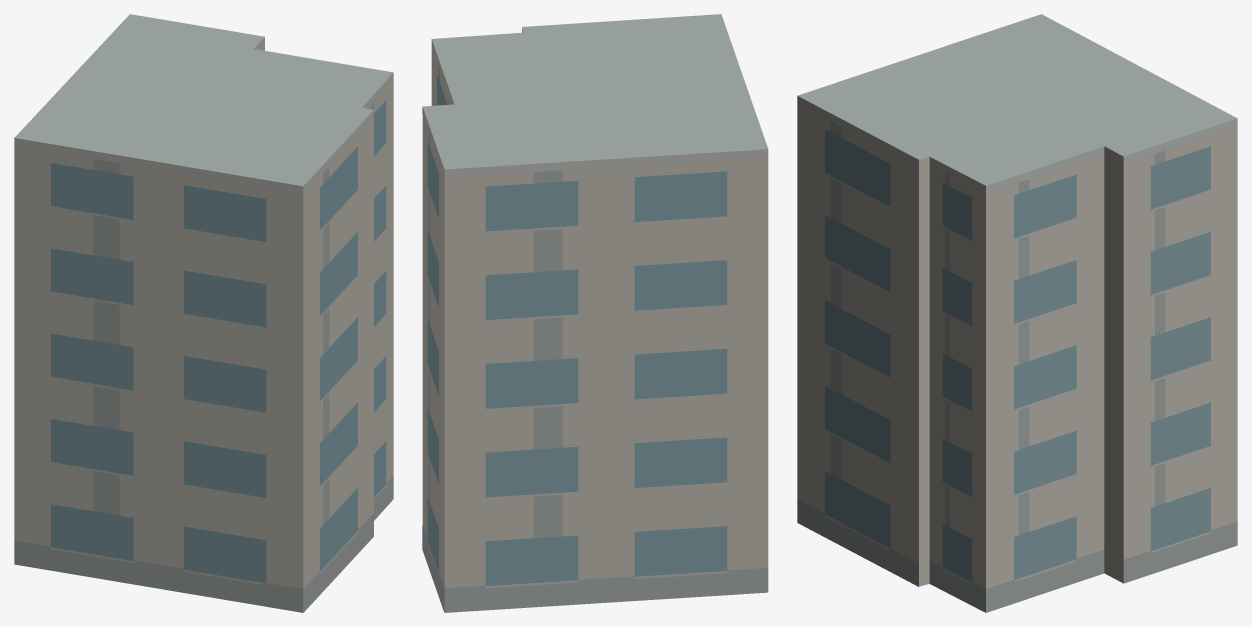
The model's file is survey-upis-32810647.glb.
The picture shows the model from 3 angles, left to right: view 1: azimuth 30°, elevation 25°; view 2: azimuth 150°, elevation 25°; view 3: azimuth 270°, elevation 25°; orthographic projection. The views are drawn at different scales.
Visible parts, largest first — view 1: survey-upis-32810647.tmp; view 2: survey-upis-32810647.tmp; view 3: survey-upis-32810647.tmp.
Boxes of the visible parts, x1,y1,x2,y2 form: survey-upis-32810647.tmp: (14,14,393,612); survey-upis-32810647.tmp: (422,14,768,612); survey-upis-32810647.tmp: (797,14,1237,612).
Bounding box in the file's own units: 11.39 × 13.2 × 12.34.
